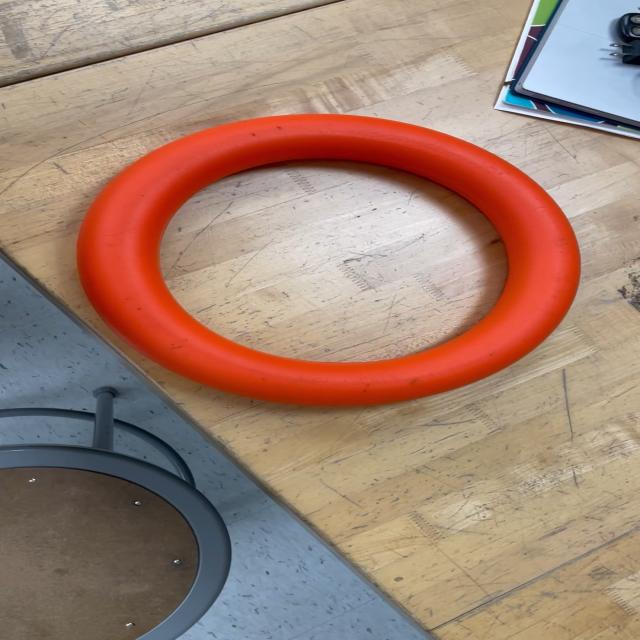note: (71, 112, 586, 409)
